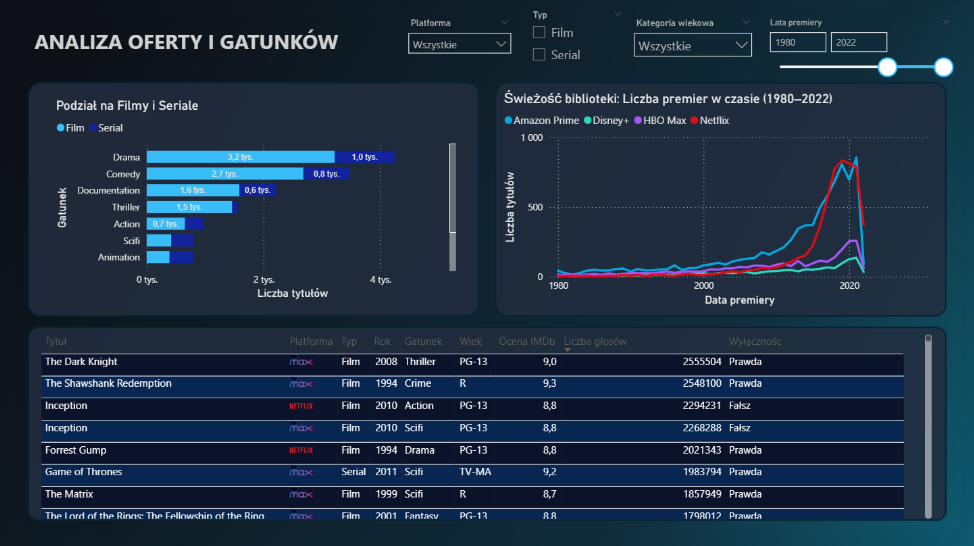

What the dashboard file says about the page in this screenshot:
{"tool":"powerbi","page":{"name":"Analiza oferty i gatunków","canvas":[1280,720],"ordinal":1},"visuals":[{"type":"barChart","title":"Podział na Filmy i Seriale","fields":{"Category":["vod_titles_cleaned.primary_genre"],"Series":["vod_titles_cleaned.type"],"Y":["_Measures.Liczba tytułów"]},"box":[69.1,129.1,534.5,270],"z":0},{"type":"lineChart","title":"Świeżość biblioteki: Liczba premier w czasie (1980–2022)","fields":{"Category":["vod_titles_cleaned.release_year"],"Y":["_Measures.Liczba tytułów"],"Series":["vod_titles_cleaned.platform"]},"box":[657.3,120,571.8,288.2],"z":1000},{"type":"tableEx","title":"Świeżość biblioteki: Liczba premier w czasie (1980–2022)","fields":{"Values":["vod_titles_cleaned.title","platform_logos.logo_url","vod_titles_cleaned.type","vod_titles_cleaned.release_year","vod_titles_cleaned.primary_genre","vod_titles_cleaned.age_certification","_Measures.Średnia IMDb","vod_titles_cleaned.imdb_votes","vod_titles_cleaned.is_exclusive"]},"box":[49.1,435.5,1180,251.8],"z":2000},{"type":"slicer","fields":{"Values":["vod_titles_cleaned.platform"]},"box":[526.4,19.1,154.5,68.2],"z":3000},{"type":"slicer","fields":{"Values":["vod_titles_cleaned.age_certification"]},"box":[822.7,19.1,175.5,68.2],"z":4000},{"type":"slicer","fields":{"Values":["vod_titles_cleaned.typ"]},"box":[687.3,9.1,142.7,88.2],"z":5000},{"type":"slicer","fields":{"Values":["vod_titles_cleaned.release_year"]},"box":[998.2,19.1,261.8,89.1],"z":6000},{"type":"textbox","box":[40.9,31.8,510.9,55.5],"z":9000}]}

Visuals, with their boxes in screenshot pixels (x1, y1, x2, y2), scaled from the page's 1280x720 canvas onto the 974x546 screenshot:
"Podział na Filmy i Seriale" barChart: bbox=[53, 98, 459, 303]
"Świeżość biblioteki: Liczba premier w czasie (1980–2022)" lineChart: bbox=[500, 91, 935, 310]
"Świeżość biblioteki: Liczba premier w czasie (1980–2022)" tableEx: bbox=[37, 330, 935, 521]
slicer - vod_titles_cleaned.platform: bbox=[401, 14, 518, 66]
slicer - vod_titles_cleaned.age_certification: bbox=[626, 14, 760, 66]
slicer - vod_titles_cleaned.typ: bbox=[523, 7, 632, 74]
slicer - vod_titles_cleaned.release_year: bbox=[760, 14, 959, 82]
textbox: bbox=[31, 24, 420, 66]
